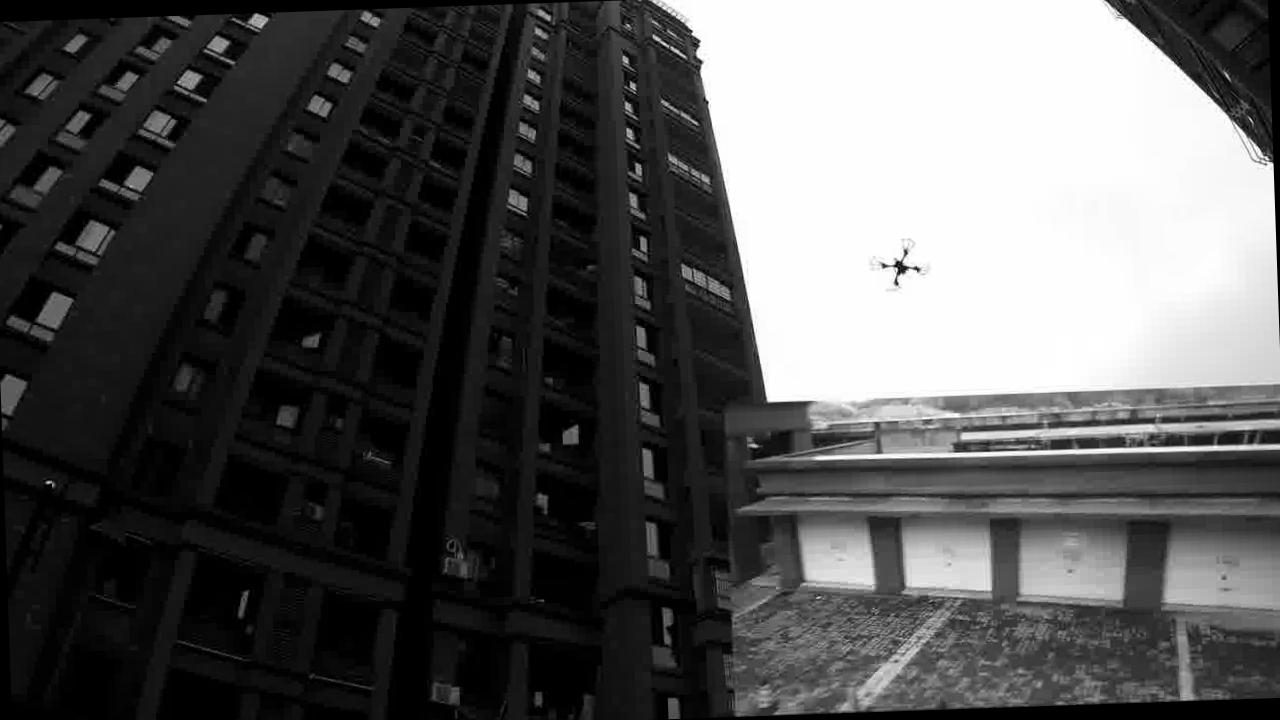drone: (870, 236, 933, 289)
